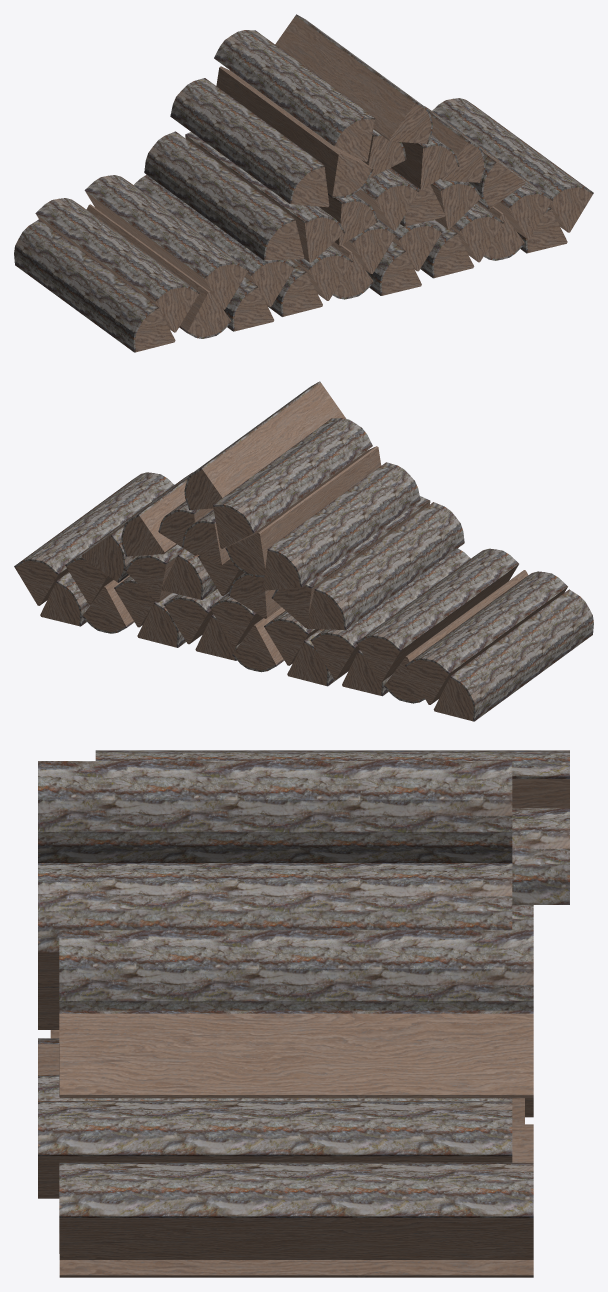
Rendered from Firewood PileTX.fbx.
3 views of the same model, one above another, from view 1: azimuth 30°, elevation 25°; view 2: azimuth 150°, elevation 25°; view 3: azimuth 270°, elevation 25° (orthographic). The views are drawn at different scales.
Visible parts, largest first — view 1: Firewood Pile; view 2: Firewood Pile; view 3: Firewood Pile.
Part boxes in pixels (left/top/right/bottom): Firewood Pile: left=14, top=14, right=593, bottom=352; Firewood Pile: left=14, top=381, right=593, bottom=721; Firewood Pile: left=38, top=750, right=569, bottom=1277.
Size of the model in its own units: 460 by 177 by 231.
1 material, 1 textured.
